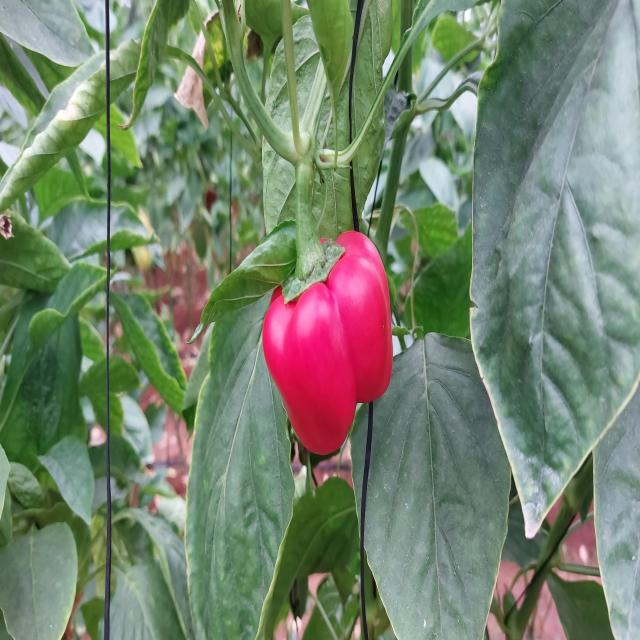Red-Ready-to-Harvest: (267, 216, 402, 464)
